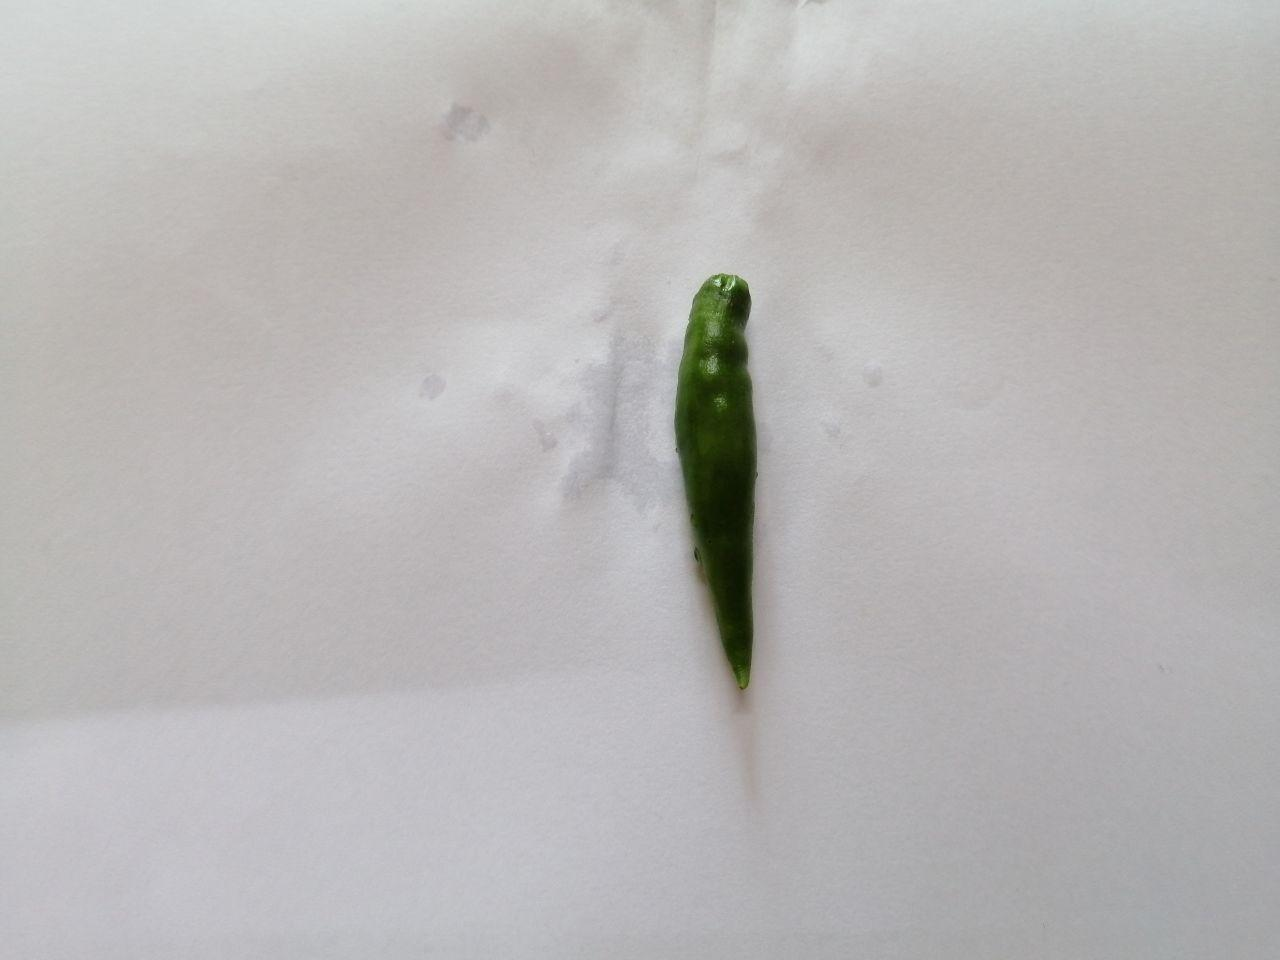lada hijau: (649, 259, 797, 705)
